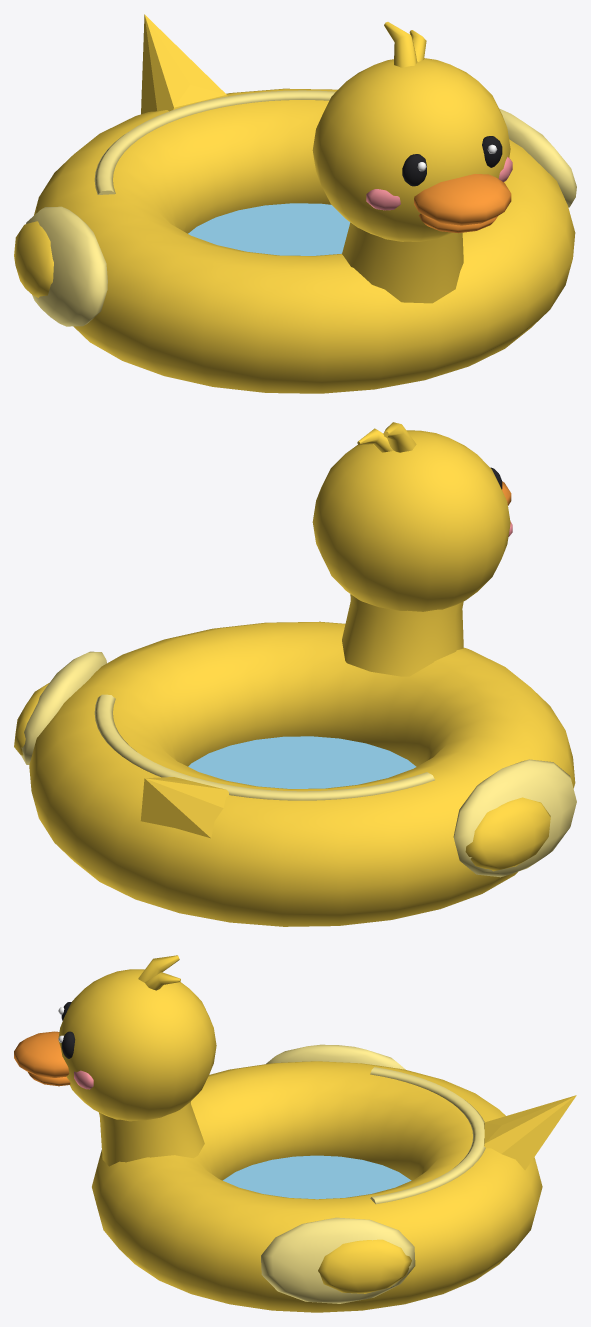
Rendered from DuckFloat.glb.
The picture shows the model from 3 angles, top to bottom: view 1: azimuth 30°, elevation 25°; view 2: azimuth 150°, elevation 25°; view 3: azimuth 270°, elevation 25°; orthographic projection. The views are drawn at different scales.
Visible parts, largest first — view 1: DuckFloat__Duck, DuckFloat__Duck_Light, DuckFloat__Float_Net, DuckFloat__Orange, DuckFloat__Black, DuckFloat__Cheek; view 2: DuckFloat__Duck, DuckFloat__Duck_Light, DuckFloat__Float_Net; view 3: DuckFloat__Duck, DuckFloat__Duck_Light, DuckFloat__Float_Net, DuckFloat__Orange.
Part boxes in pixels (x1=…): DuckFloat__Duck: x1=14, y1=14, x2=575, y2=393; DuckFloat__Duck_Light: x1=26, y1=90, x2=576, y2=326; DuckFloat__Float_Net: x1=188, y1=203, x2=350, y2=255; DuckFloat__Orange: x1=414, y1=174, x2=511, y2=233; DuckFloat__Black: x1=402, y1=136, x2=502, y2=186; DuckFloat__Cheek: x1=366, y1=157, x2=512, y2=210; DuckFloat__Duck: x1=14, y1=422, x2=575, y2=926; DuckFloat__Duck_Light: x1=21, y1=651, x2=576, y2=877; DuckFloat__Float_Net: x1=188, y1=736, x2=416, y2=788; DuckFloat__Duck: x1=58, y1=955, x2=576, y2=1312; DuckFloat__Duck_Light: x1=261, y1=1044, x2=485, y2=1303; DuckFloat__Float_Net: x1=223, y1=1155, x2=411, y2=1199; DuckFloat__Orange: x1=14, y1=1031, x2=70, y2=1086.
Bounding box in the file's own units: 5.8 × 3.71 × 6.72.
